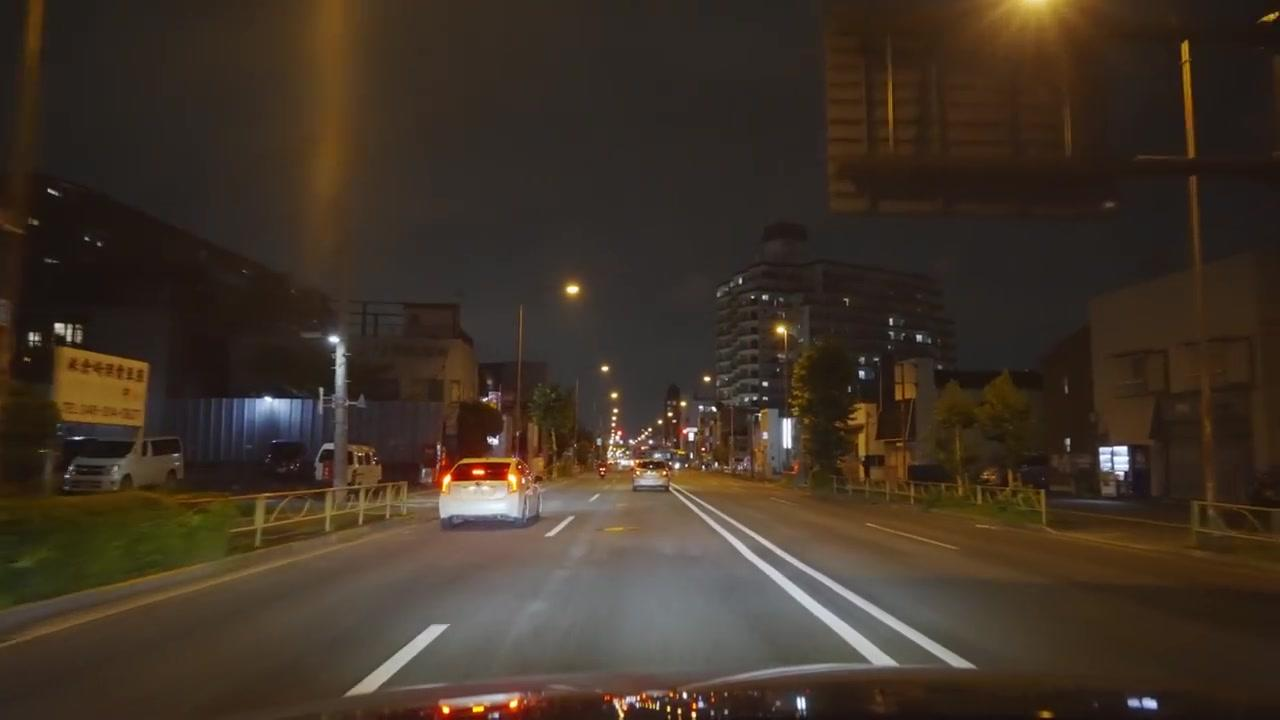car: (438, 457, 544, 530), (61, 432, 185, 494), (313, 442, 381, 487), (263, 439, 309, 477), (631, 462, 671, 492)
truck: (59, 430, 186, 494), (313, 442, 380, 487)
